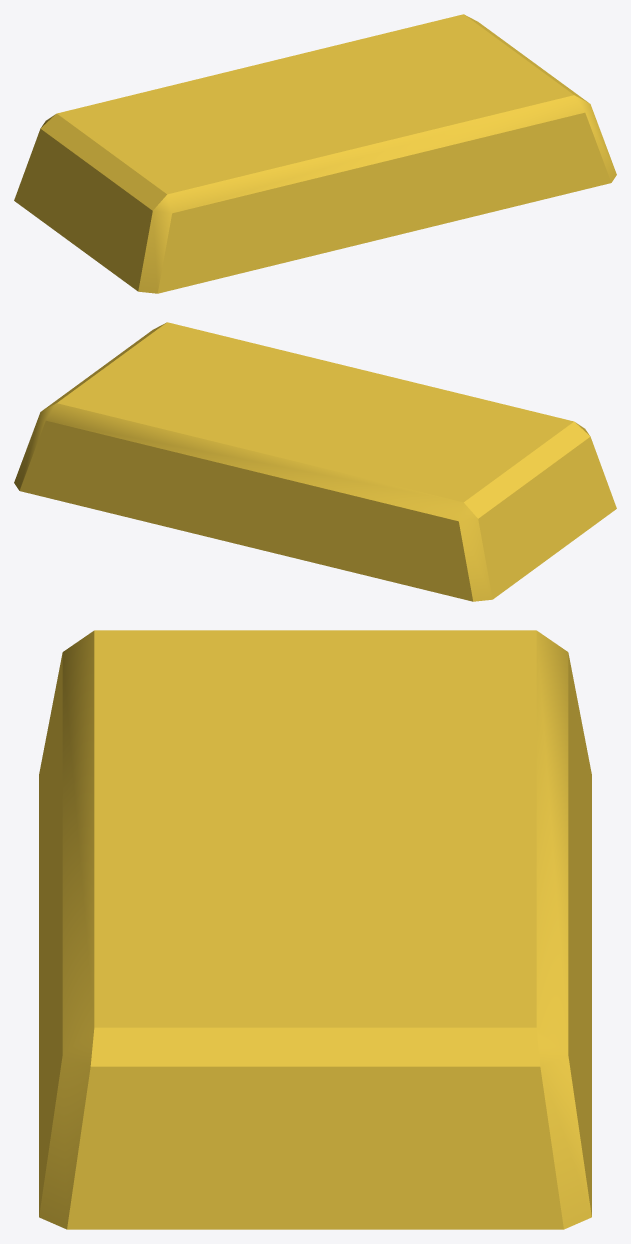
File: GoldbarSingleBlockout_RB.fbx
3 views of the same model, one above another, from view 1: azimuth 30°, elevation 25°; view 2: azimuth 150°, elevation 25°; view 3: azimuth 270°, elevation 25° (orthographic). The views are drawn at different scales.
Parts seen in each view (by area): view 1: GoldbarSingleBlockout_RB; view 2: GoldbarSingleBlockout_RB; view 3: GoldbarSingleBlockout_RB.
Boxes of the visible parts, box(x1,y1,x2,y2) form: GoldbarSingleBlockout_RB: box(14, 14, 616, 293); GoldbarSingleBlockout_RB: box(14, 322, 616, 601); GoldbarSingleBlockout_RB: box(39, 630, 591, 1229).
Size of the model in its own units: 120 by 20 by 60.
